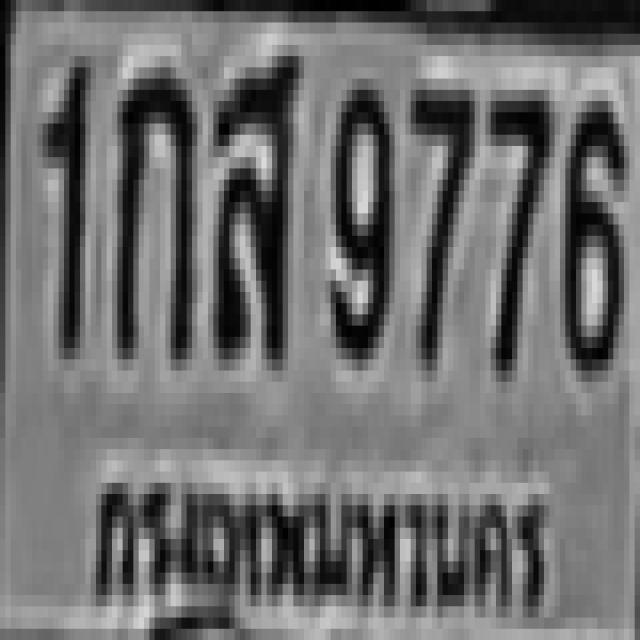1: (38, 50, 86, 342)
10GorGai: (112, 62, 192, 354)
49SorSuea: (208, 50, 293, 354)
6: (560, 90, 619, 359)
7: (406, 79, 470, 359), (485, 78, 544, 370)
9: (326, 79, 390, 348)
Bangkok: (70, 441, 551, 640)
